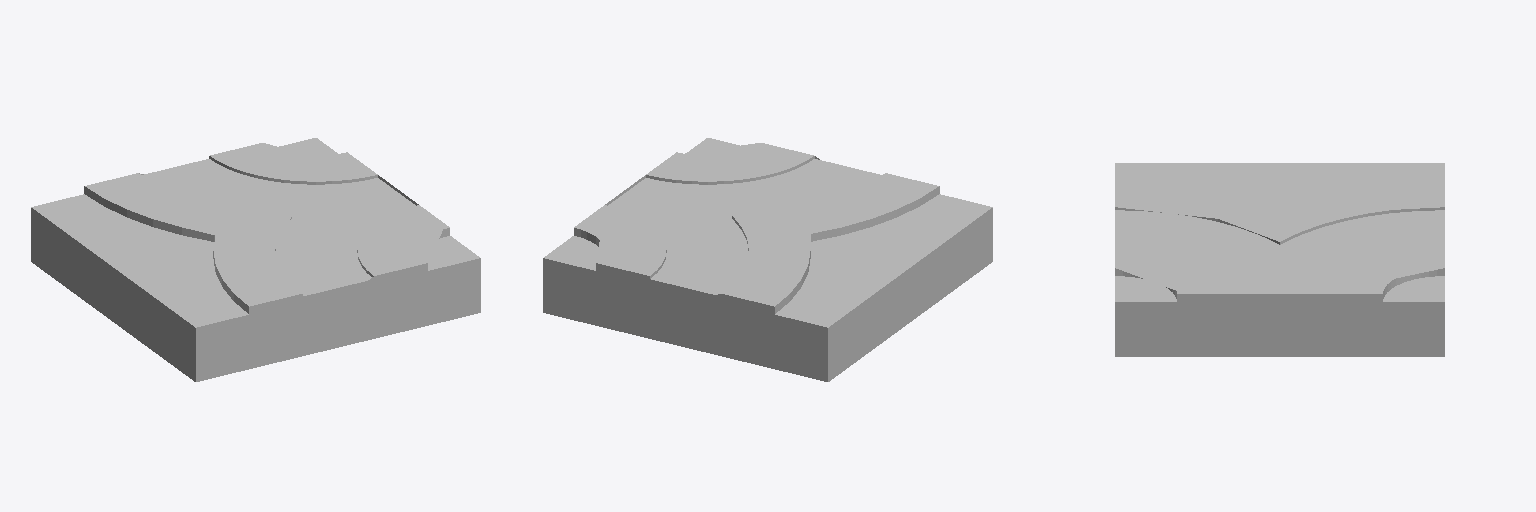
Rendered from roadTile_148.obj.
3 views of the same model, side by side, from view 1: azimuth 30°, elevation 25°; view 2: azimuth 150°, elevation 25°; view 3: azimuth 270°, elevation 25° (orthographic).
Visible parts, largest first — view 1: Mesh1 Group1 Model; view 2: Mesh1 Group1 Model; view 3: Mesh1 Group1 Model.
Part boxes in pixels (bbox=[...]): Mesh1 Group1 Model: bbox=[31, 138, 480, 381]; Mesh1 Group1 Model: bbox=[543, 138, 992, 381]; Mesh1 Group1 Model: bbox=[1115, 163, 1444, 356].
Bounding box in the file's own units: 3 × 0.63 × 3.